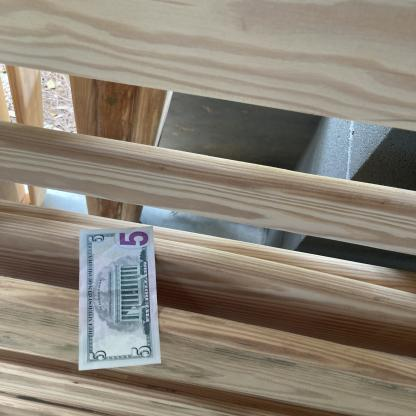five-back: (78, 226, 162, 371)
